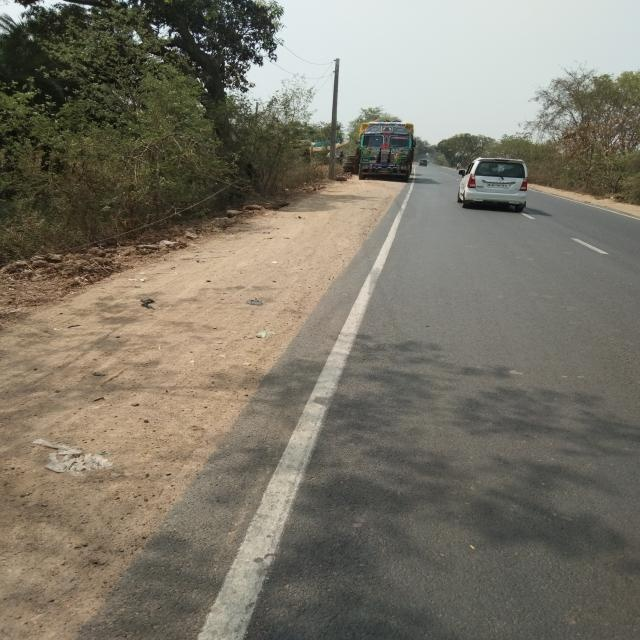Car: (460, 154, 528, 210)
Truck: (350, 112, 420, 183)
